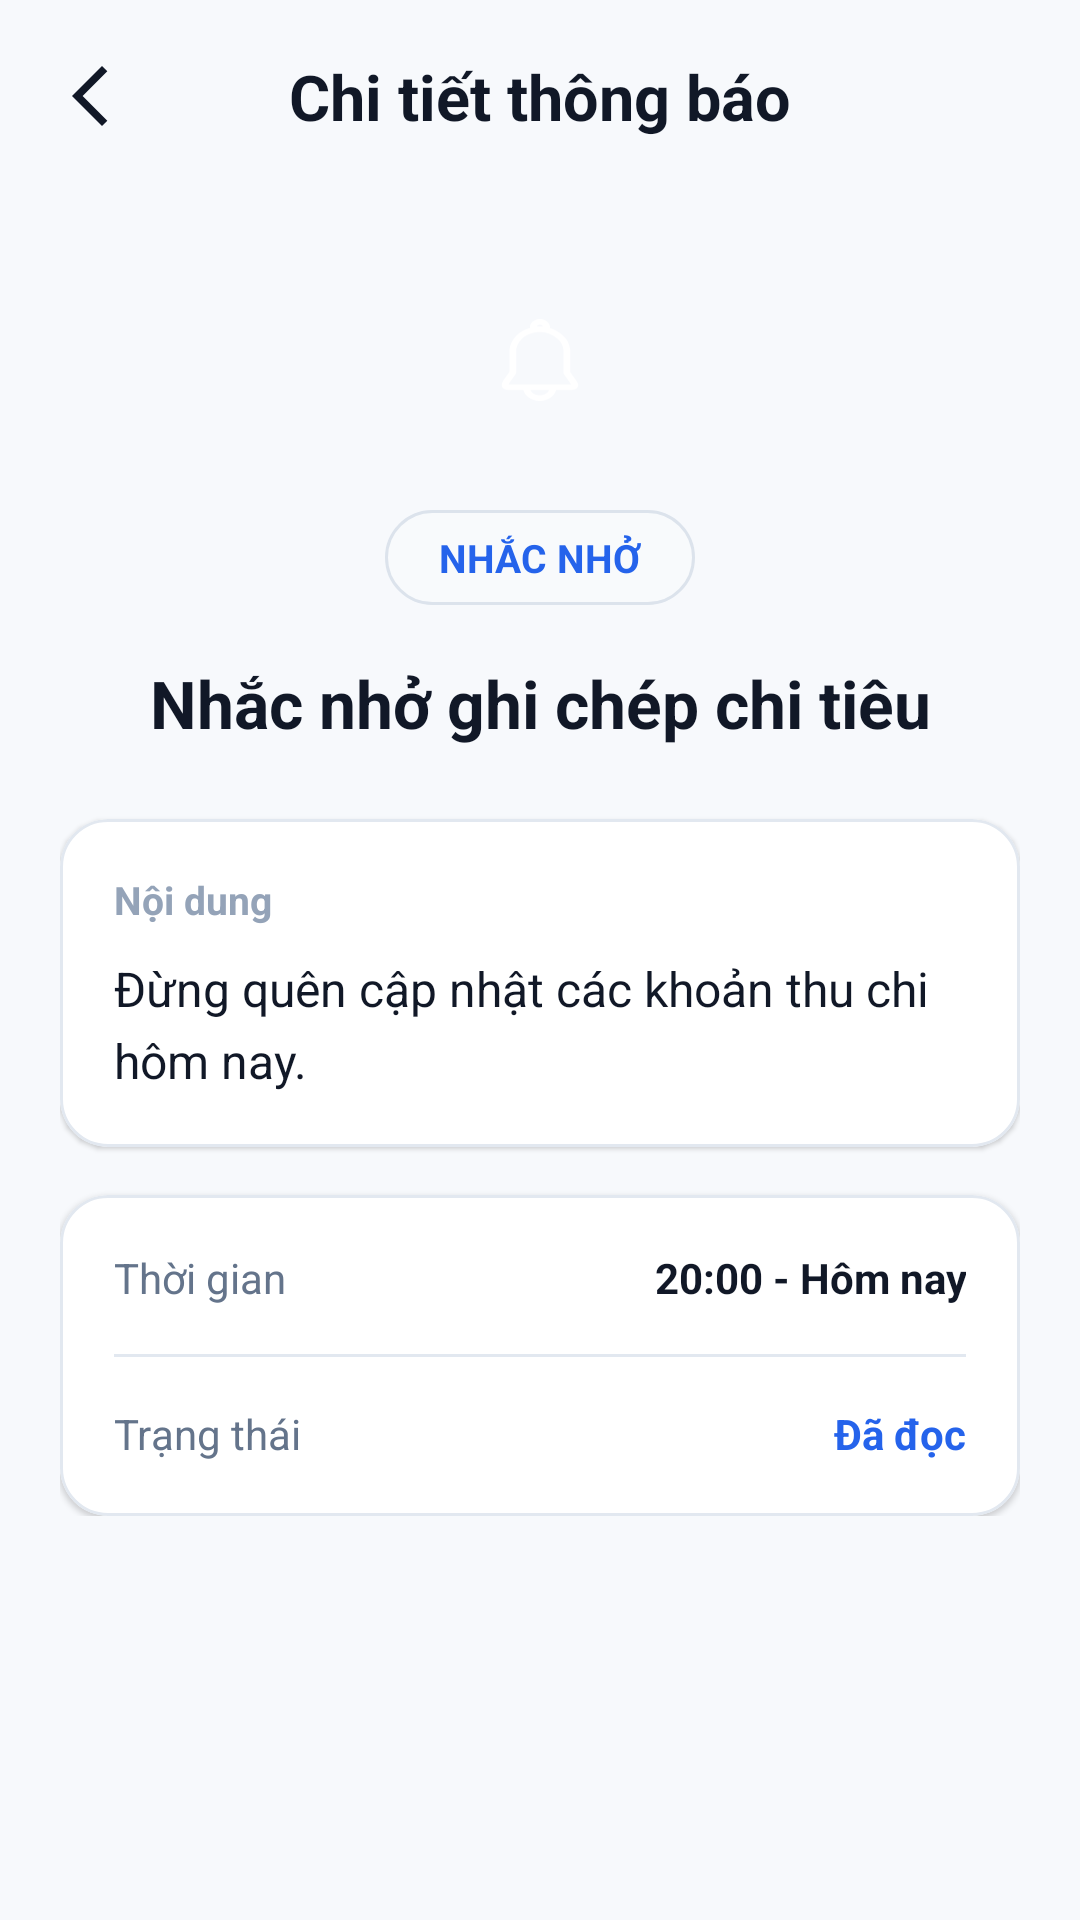

Icons on this 1080px x 1920px Android screen, each with the point to tap as (x,y):
Quay lại: (89,96)
